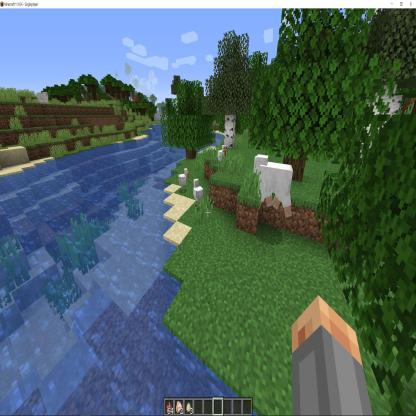minecraft-pigs: (192, 178, 204, 210), (178, 166, 190, 192), (216, 143, 227, 171)
